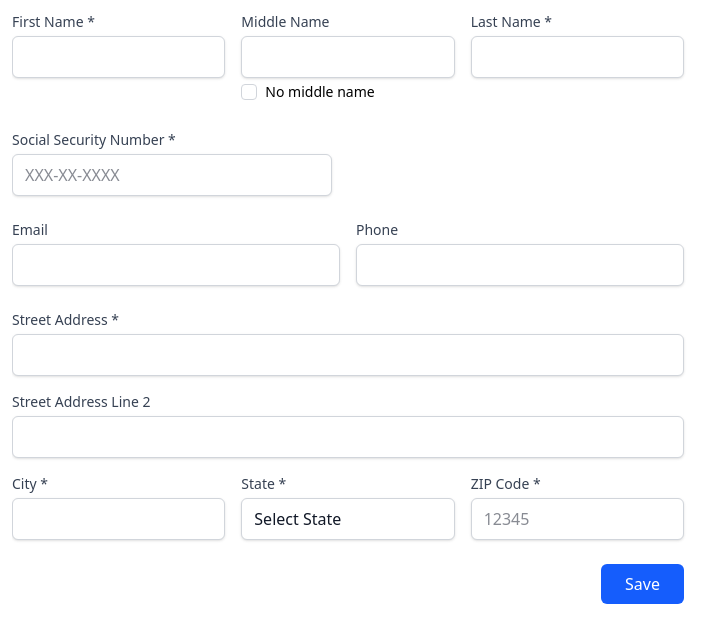
Test: PiiForm › formats SSN input with dashes automatically
Type SSN digits
Step 1. Type "123456789" into the field labelled "Social Security Number *" → {"x": 172, "y": 175}, box left=12, top=154, right=332, bottom=196
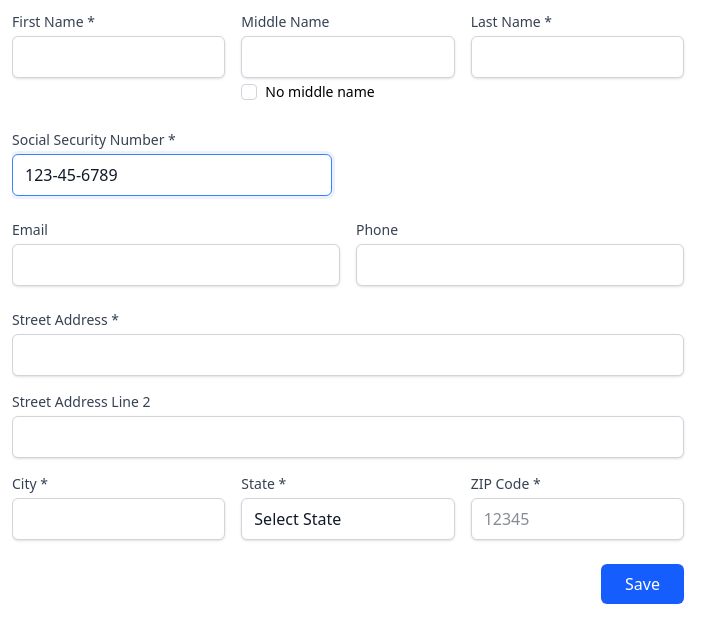
expect the field labelled "Social Security Number *" holds "123-45-6789": met, box left=12, top=154, right=332, bottom=196
